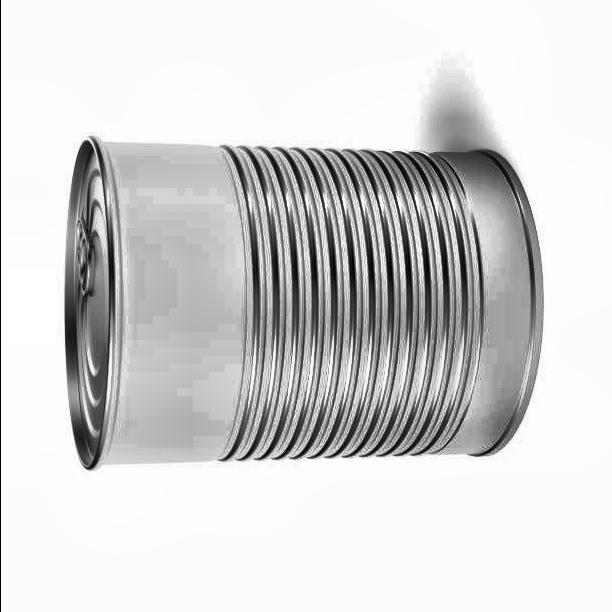can: (35, 97, 584, 503)
